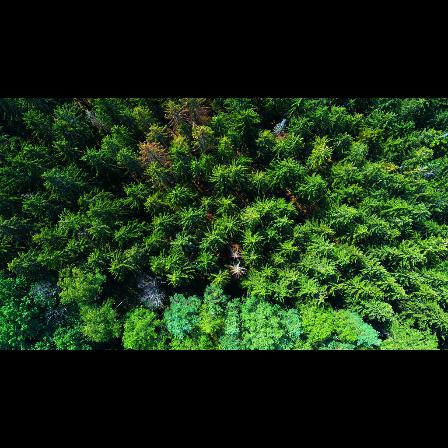Dead: (133, 271, 169, 311), (32, 277, 63, 299), (227, 261, 249, 283), (46, 307, 71, 326), (269, 117, 290, 138), (224, 247, 246, 260)
